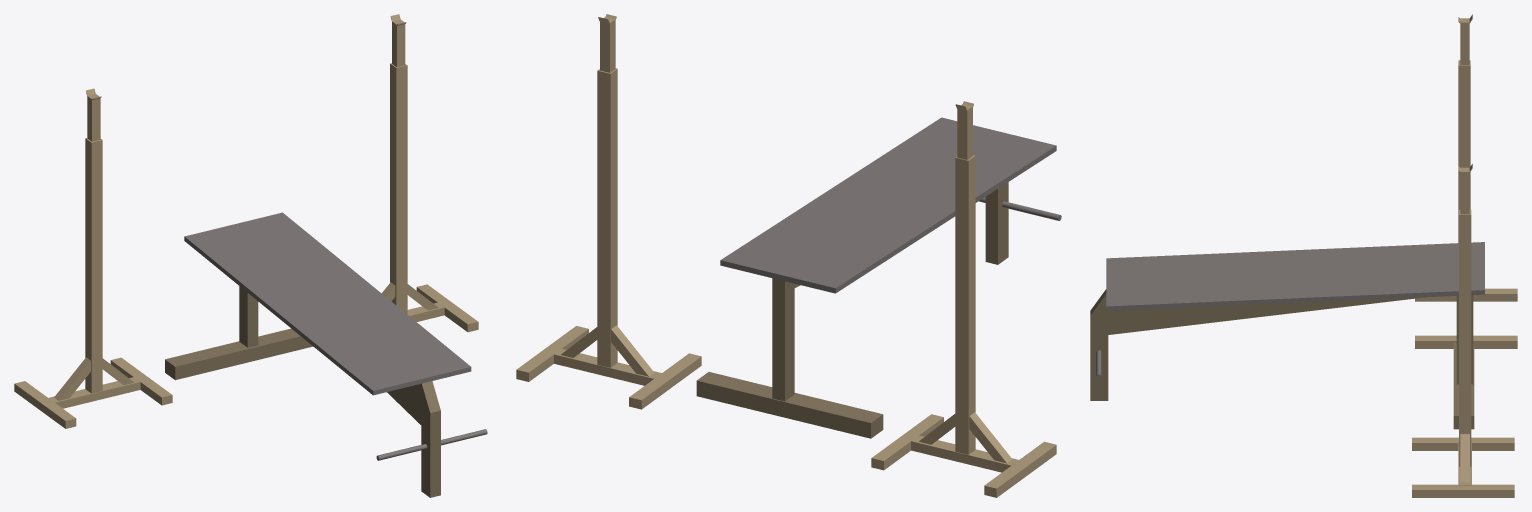
File: SM_Rack_01.fbx
3 views of the same model, side by side, from view 1: azimuth 30°, elevation 25°; view 2: azimuth 150°, elevation 25°; view 3: azimuth 270°, elevation 25° (orthographic). The views are drawn at different scales.
Parts seen in each view (by area): view 1: SM_Rack_01; view 2: SM_Rack_01; view 3: SM_Rack_01.
Part boxes in pixels (x1,y1,x2,y2): SM_Rack_01: (14,14,487,497); SM_Rack_01: (516,14,1061,497); SM_Rack_01: (1090,14,1517,497).
Bounding box in the file's own units: 213 × 151 × 191.
1 material, 1 textured.
